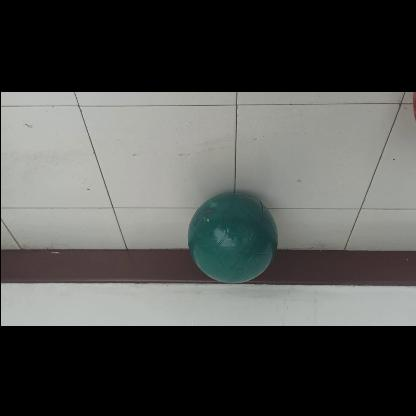green_ball: (188, 193, 278, 284)
